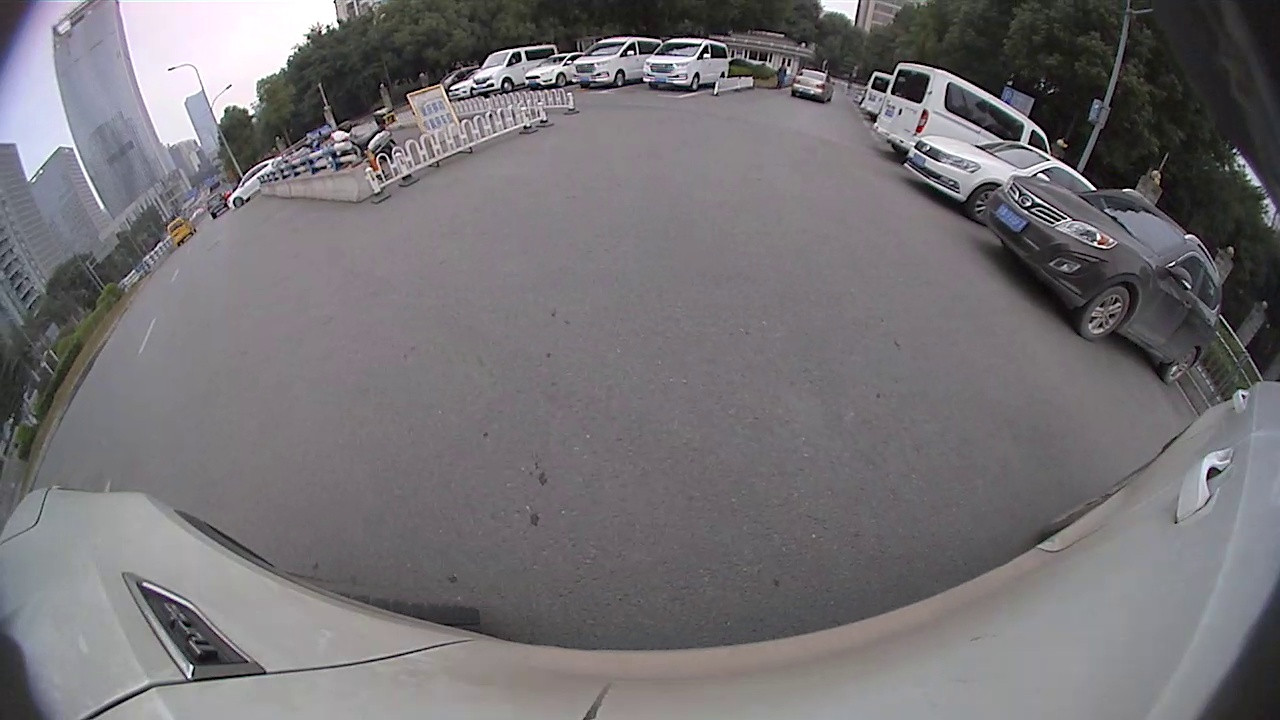car: (983, 171, 1227, 387), (871, 60, 1055, 166), (901, 132, 1092, 224), (640, 37, 732, 94), (469, 43, 561, 100), (572, 35, 664, 89), (226, 155, 289, 211), (523, 50, 589, 89), (788, 67, 836, 104)
front: (1075, 283, 1131, 342), (967, 181, 1002, 226), (614, 70, 627, 89), (501, 77, 515, 92), (690, 73, 701, 92), (556, 73, 568, 87), (232, 197, 246, 208)
rear: (1159, 346, 1198, 386)
